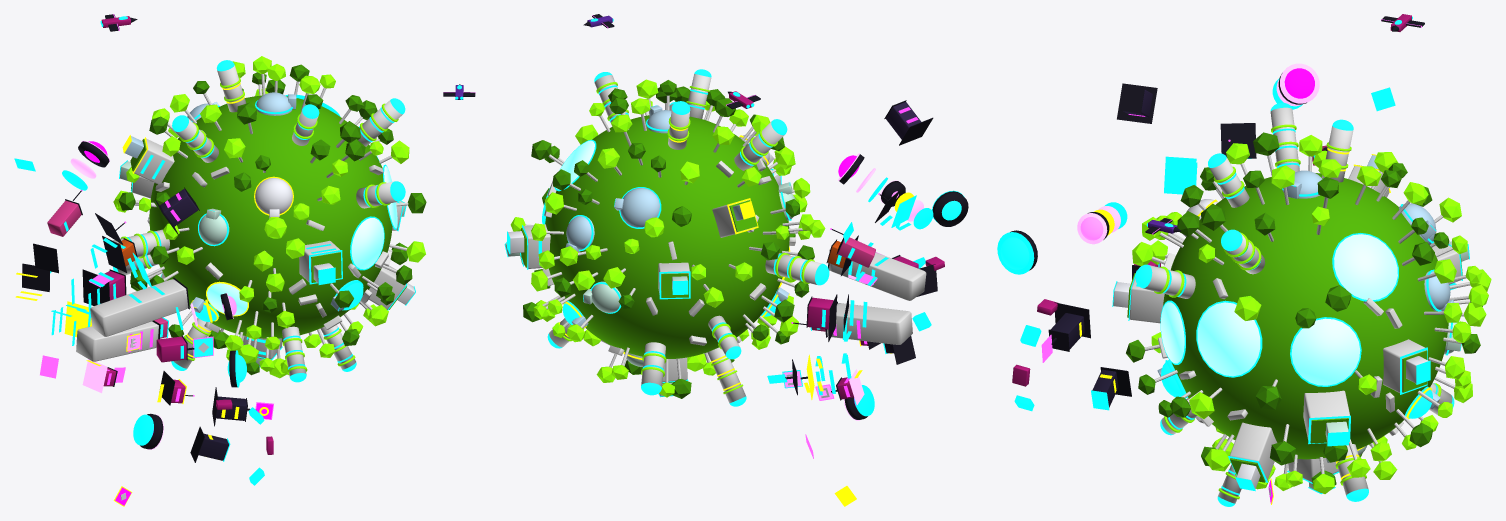
File: Planet_Gardens.fbx
3 views of the same model, side by side, from view 1: azimuth 30°, elevation 25°; view 2: azimuth 150°, elevation 25°; view 3: azimuth 270°, elevation 25° (orthographic). The views are drawn at different scales.
Visible parts, largest first — view 1: Gardens_Grass.001, COL_Gardens, Gardens_Leaves, Gardens_Leaves_Dark, Gardens_Dark_Metal, Gardens_Neon_Cyan, Gardens_Screen_Cyan, Gardens_Waterfall, Gardens_Win_Cyan, Gardens_B_Magenta, Gardens_Soft_White, Gardens_G_Sky (+9 smaller); view 2: Gardens_Grass.001, COL_Gardens, Gardens_Leaves, Gardens_Leaves_Dark, Gardens_Dark_Metal, Gardens_Neon_Cyan, Gardens_G_Sky, Gardens_Screen_Cyan, Gardens_Win_Cyan, Gardens_G_Mint, Gardens_B_Magenta, Gardens_G_NeonGreen (+5 smaller); view 3: Gardens_Grass.001, COL_Gardens, Gardens_Leaves, Gardens_Waterfall, Gardens_Leaves_Dark, Gardens_Neon_Cyan, Gardens_Dark_Metal, Gardens_Screen_Cyan, Gardens_G_Sky, Gardens_Neon_Violet, Gardens_Soft_White, Gardens_B_Dark (+3 smaller).
Part boxes in pixels (x1,y1,x2,y2): Gardens_Grass.001: (130, 95, 406, 358); COL_Gardens: (76, 65, 408, 376); Gardens_Leaves: (113, 56, 425, 378); Gardens_Leaves_Dark: (118, 64, 426, 375); Gardens_Dark_Metal: (22, 14, 475, 462); Gardens_Neon_Cyan: (14, 21, 463, 485); Gardens_Screen_Cyan: (105, 16, 461, 382); Gardens_Waterfall: (207, 166, 397, 315); Gardens_Win_Cyan: (51, 154, 336, 358); Gardens_B_Magenta: (101, 16, 273, 454); Gardens_Soft_White: (255, 178, 415, 304); Gardens_G_Sky: (125, 92, 344, 312); Gardens_Grass.001: (519, 115, 789, 383); COL_Gardens: (521, 74, 926, 403); Gardens_Leaves: (510, 79, 825, 397); Gardens_Leaves_Dark: (523, 80, 814, 398); Gardens_Dark_Metal: (583, 14, 968, 419); Gardens_Neon_Cyan: (504, 18, 964, 416); Gardens_G_Sky: (565, 105, 789, 328); Gardens_Screen_Cyan: (547, 18, 961, 406); Gardens_Win_Cyan: (538, 177, 933, 395); Gardens_G_Mint: (505, 182, 795, 396); Gardens_B_Magenta: (729, 91, 944, 399); Gardens_G_NeonGreen: (559, 125, 790, 390); Gardens_Grass.001: (1127, 165, 1462, 482); COL_Gardens: (1129, 107, 1470, 503); Gardens_Leaves: (1132, 124, 1491, 499); Gardens_Waterfall: (1161, 234, 1397, 385); Gardens_Leaves_Dark: (1126, 132, 1482, 485); Gardens_Neon_Cyan: (997, 16, 1469, 495); Gardens_Dark_Metal: (1010, 16, 1424, 396); Gardens_Screen_Cyan: (1000, 20, 1454, 506); Gardens_G_Sky: (1157, 155, 1454, 409); Gardens_Neon_Violet: (1077, 63, 1319, 244); Gardens_Soft_White: (1113, 199, 1428, 488); Gardens_B_Dark: (1050, 313, 1118, 407).
Size of the model in its own units: 83.4 by 95.19 by 82.8.
